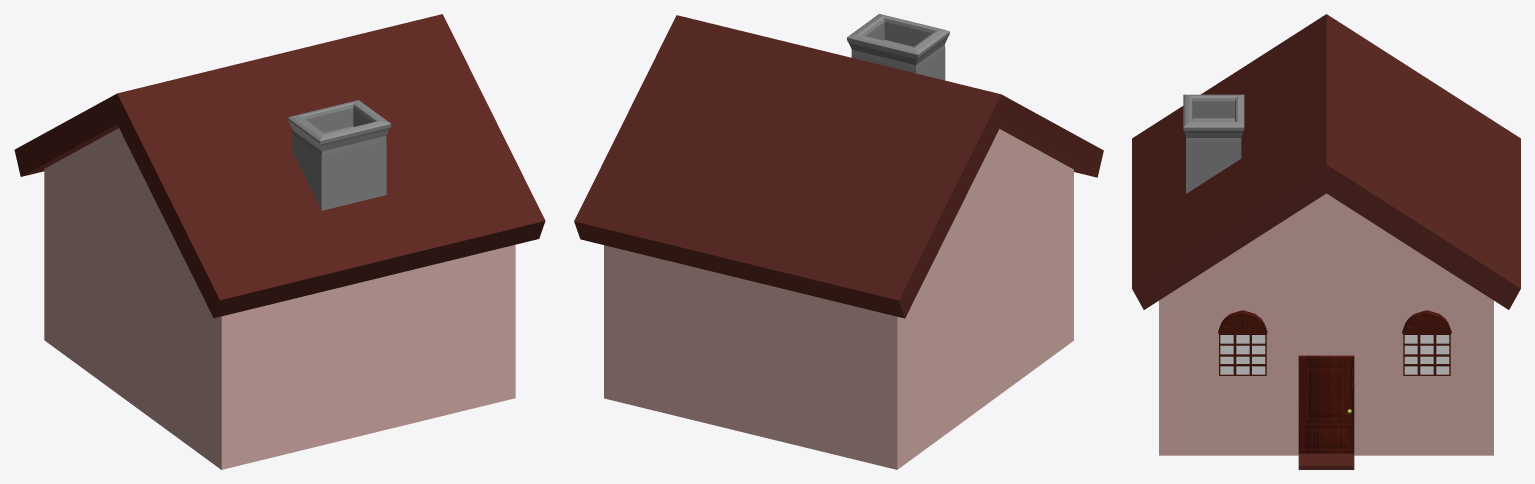
Rendered from House.fbx.
The picture shows the model from 3 angles, left to right: view 1: azimuth 30°, elevation 25°; view 2: azimuth 150°, elevation 25°; view 3: azimuth 270°, elevation 25°; orthographic projection. The views are drawn at different scales.
Parts seen in each view (by area): view 1: House, Chimney; view 2: House, Chimney; view 3: House, door, Chimney, Window2, Window, WindowTop.001, WindowTop.
Part boxes in pixels (<box>): House: <box>14,14,545,469</box>; Chimney: <box>288,100,391,210</box>; House: <box>574,15,1103,469</box>; Chimney: <box>847,14,949,80</box>; House: <box>1132,14,1520,455</box>; door: <box>1298,355,1354,469</box>; Chimney: <box>1183,94,1244,193</box>; Window2: <box>1219,334,1266,375</box>; Window: <box>1403,334,1450,375</box>; WindowTop.001: <box>1218,310,1267,333</box>; WindowTop: <box>1402,310,1451,333</box>.
Size of the model in its own units: 703 by 622 by 734.
